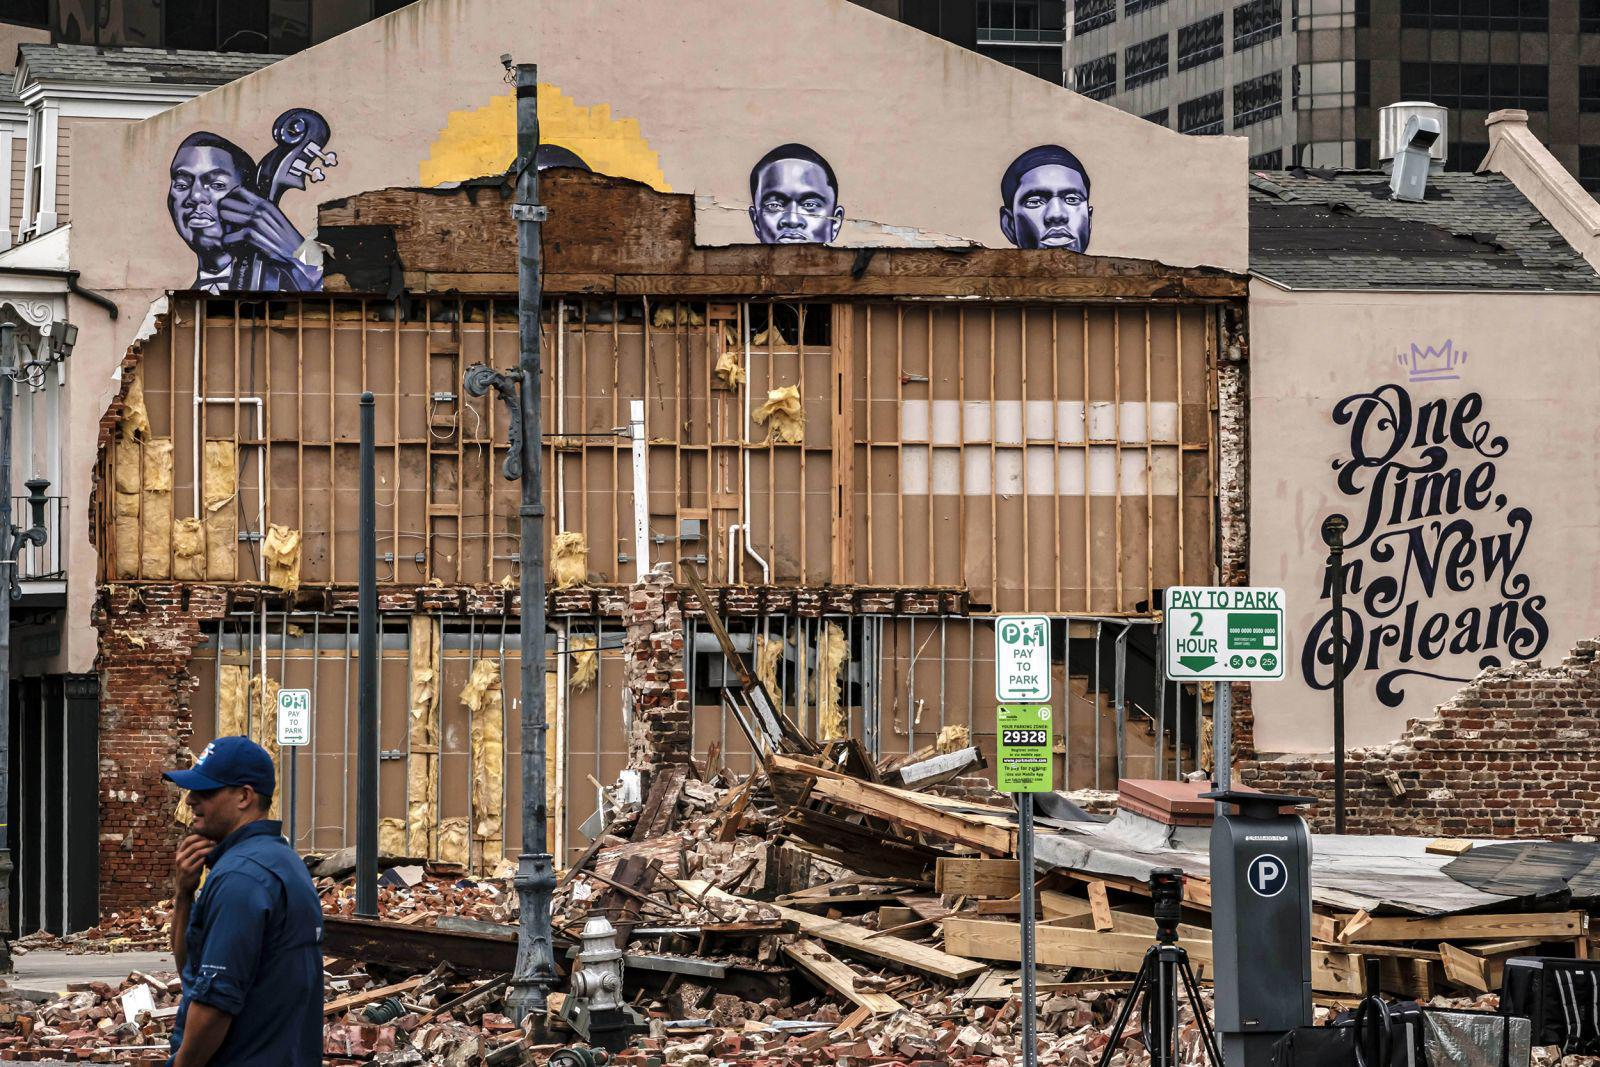major: (21, 0, 1600, 940)
